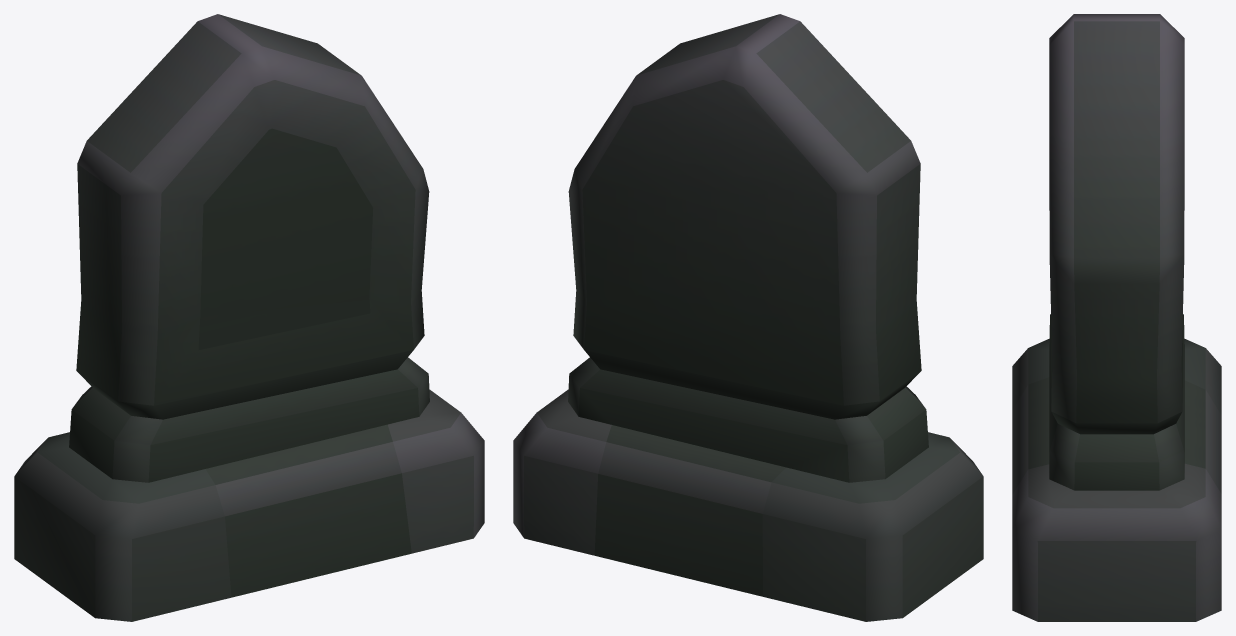
File: undead_tomb_stone_4.fbx
3 views of the same model, side by side, from view 1: azimuth 30°, elevation 25°; view 2: azimuth 150°, elevation 25°; view 3: azimuth 270°, elevation 25° (orthographic). The views are drawn at different scales.
Parts seen in each view (by area): view 1: undead_tomb_stone_4; view 2: undead_tomb_stone_4; view 3: undead_tomb_stone_4.
Part boxes in pixels (x1,y1,x2,y2): undead_tomb_stone_4: (14,14,484,621); undead_tomb_stone_4: (513,14,983,621); undead_tomb_stone_4: (1012,14,1221,621).
Size of the model in its own units: 1.15 by 1.45 by 0.5478.
